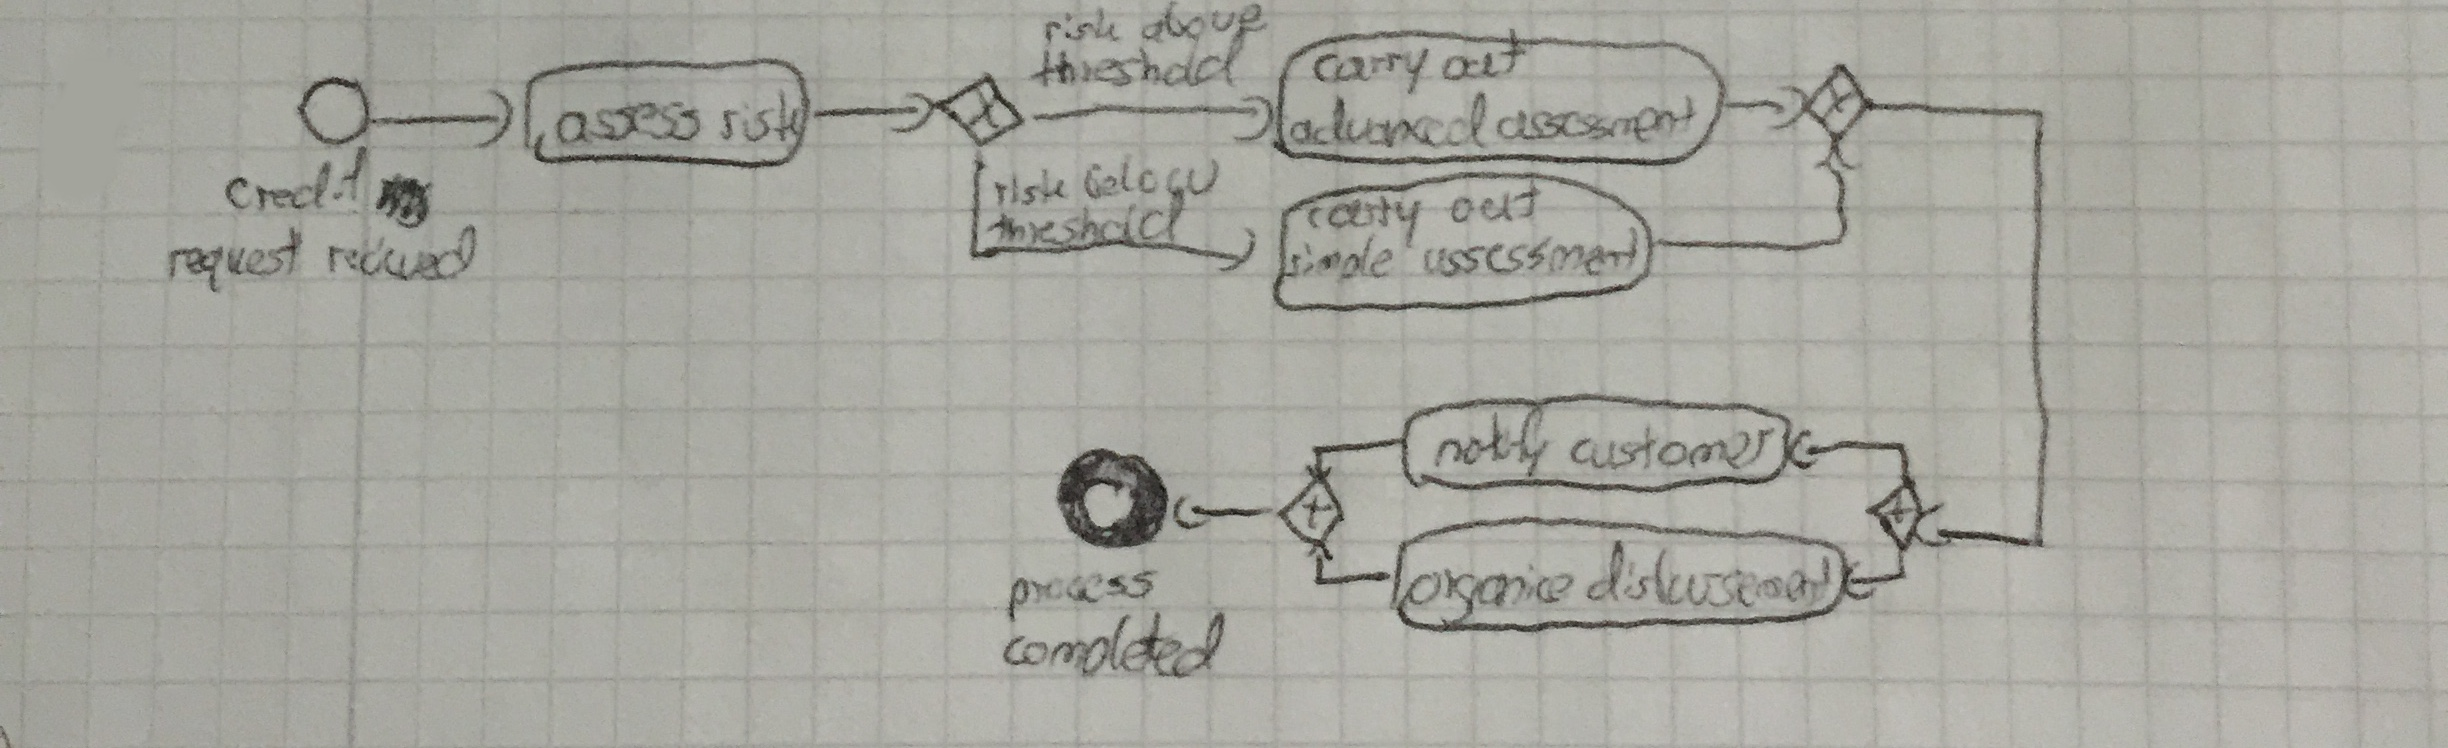above: (1132, 2, 1276, 52)
advanced: (1280, 83, 1497, 158)
assesment: (1486, 86, 1705, 148)
assess: (548, 91, 710, 151)
assessment: (1414, 219, 1647, 287)
below: (1073, 144, 1229, 208)
carry: (1297, 186, 1429, 256), (1305, 41, 1436, 102)
completed: (993, 601, 1233, 689)
credit: (212, 134, 376, 222)
customer: (1561, 415, 1784, 478)
disbursement: (1580, 531, 1839, 611)
notify: (1424, 398, 1557, 487)
organise: (1397, 556, 1582, 632)
out: (1441, 169, 1549, 233), (1435, 22, 1535, 87)
process: (1001, 559, 1166, 629)
recieved: (318, 215, 486, 292)
request: (159, 219, 311, 301)
risk: (710, 80, 812, 151), (987, 159, 1074, 214), (1035, 2, 1129, 50)
simple: (1272, 226, 1402, 294)
threshold: (1021, 19, 1255, 95), (977, 180, 1194, 256)
